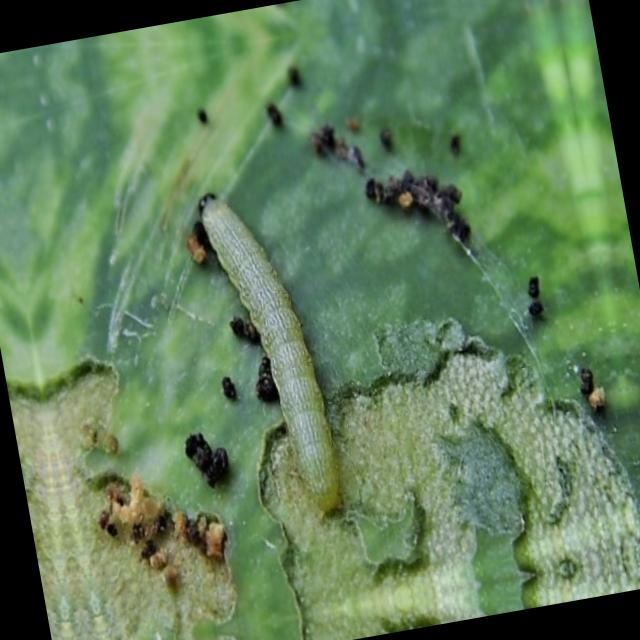Armyworm: (186, 153, 375, 524)
